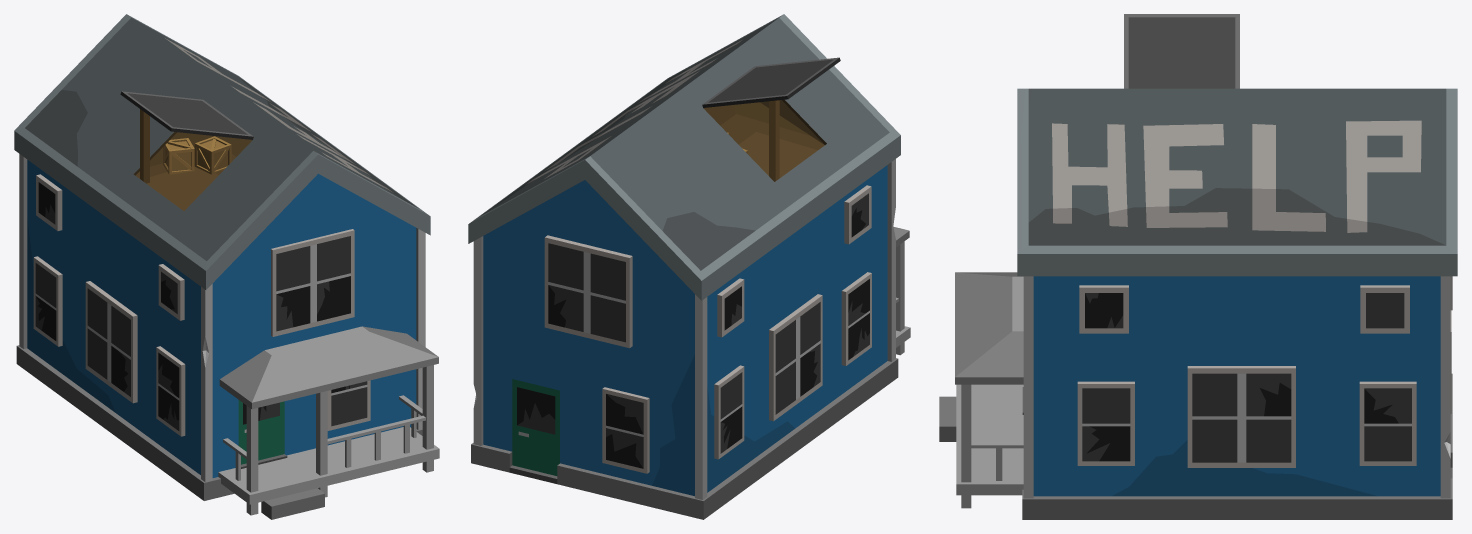
File: SA_Bld_HouseTall_Damaged_03.gltf
3 renders of one model, left to right at view 1: azimuth 30°, elevation 25°; view 2: azimuth 150°, elevation 25°; view 3: azimuth 270°, elevation 25°, orthographic. The views are drawn at different scales.
Parts seen in each view (by area): view 1: SA_Bld_HouseTall_Damaged_03; view 2: SA_Bld_HouseTall_Damaged_03; view 3: SA_Bld_HouseTall_Damaged_03.
Part boxes in pixels (left/top/right/bottom): SA_Bld_HouseTall_Damaged_03: left=14, top=14, right=439, bottom=519; SA_Bld_HouseTall_Damaged_03: left=468, top=14, right=910, bottom=519; SA_Bld_HouseTall_Damaged_03: left=939, top=14, right=1457, bottom=519.
Bounding box in the file's own units: 10.63 × 15.27 × 18.52.
1 material, 1 textured.
